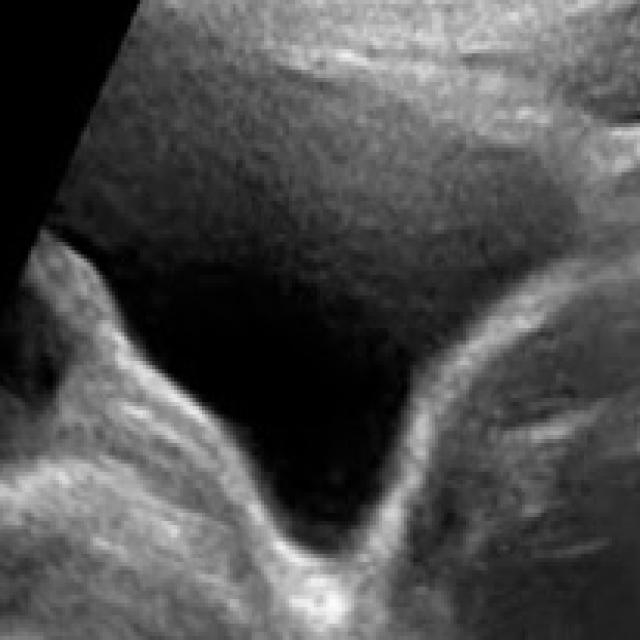bladder: (31, 0, 613, 604)
